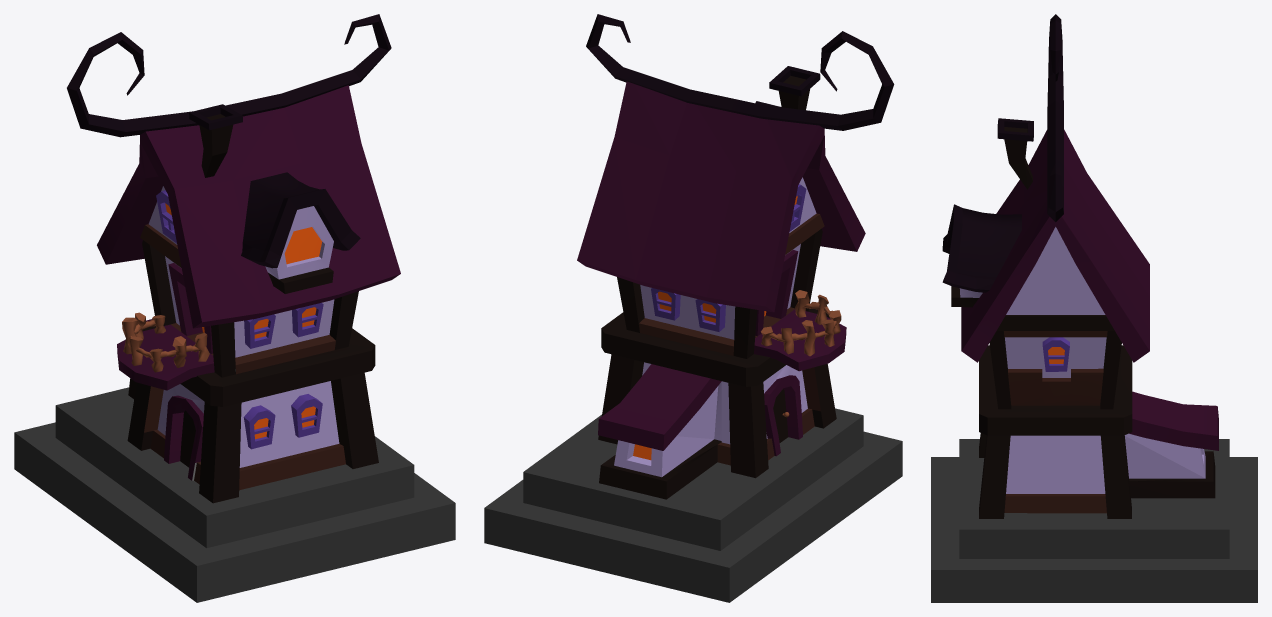
Rendered from WitchHouse.fbx.
3 views of the same model, side by side, from view 1: azimuth 30°, elevation 25°; view 2: azimuth 150°, elevation 25°; view 3: azimuth 270°, elevation 25° (orthographic). The views are drawn at different scales.
Visible parts, largest first — view 1: House; view 2: House; view 3: House.
Boxes of the visible parts, left/top/right/bottom form: House: left=14, top=14, right=455, bottom=602; House: left=484, top=14, right=902, bottom=602; House: left=931, top=14, right=1257, bottom=602.
Size of the model in its own units: 173 by 265 by 168.
